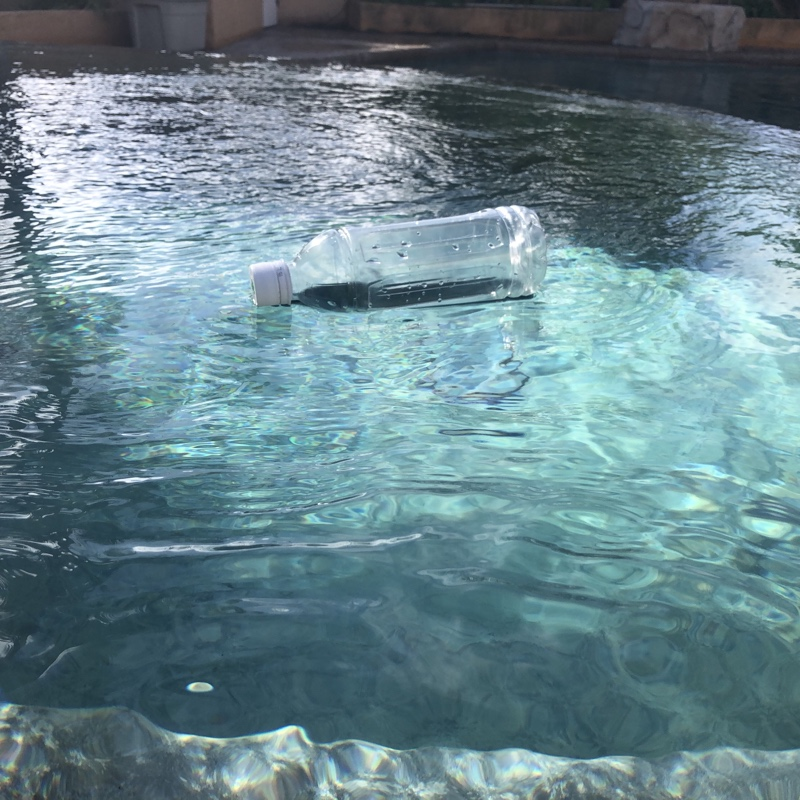Plastic Bottle: (247, 201, 550, 310)
